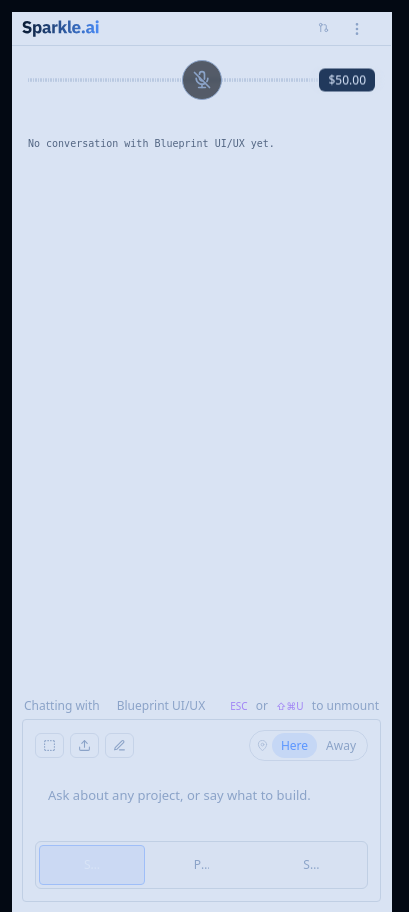
it: ConciergeHost — a terminal that must not receive free text refuses › refuses a mounted send when the screen cannot be read at all
Type "move the button 5px left" into the text box named "Message" at {"x": 202, "y": 804}, box [35,775,368,833]
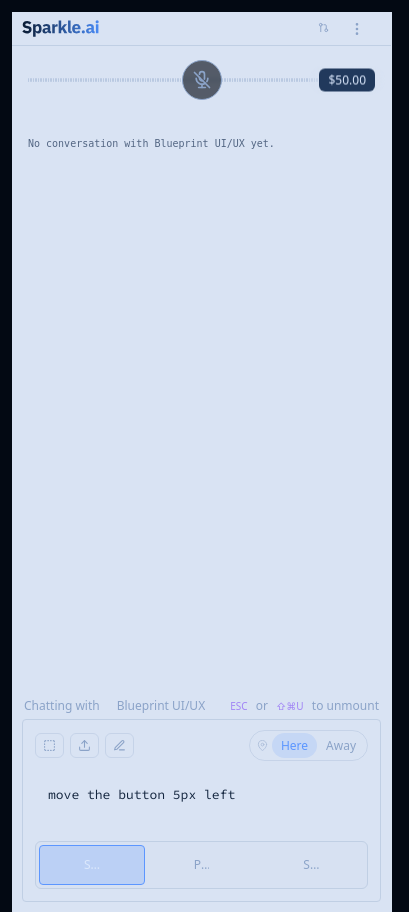
Click the button "Send" at {"x": 92, "y": 865}, box [39,845,145,885]
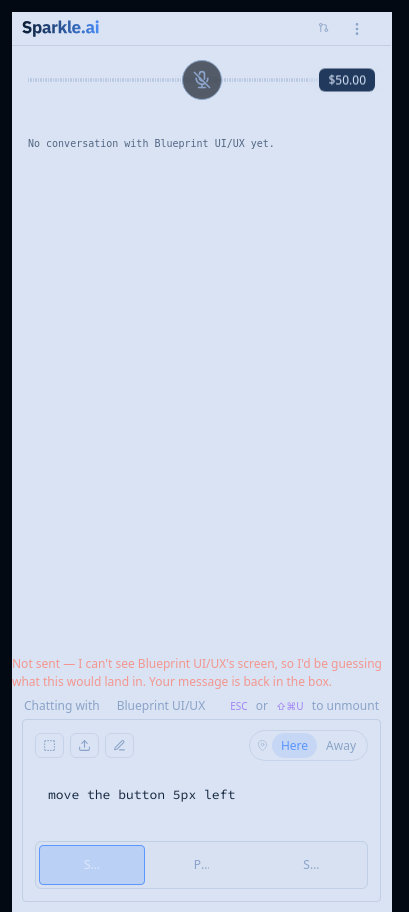
Expected: the message with test id "mounted-notice" shows "can't see", [12,655,382,690]
